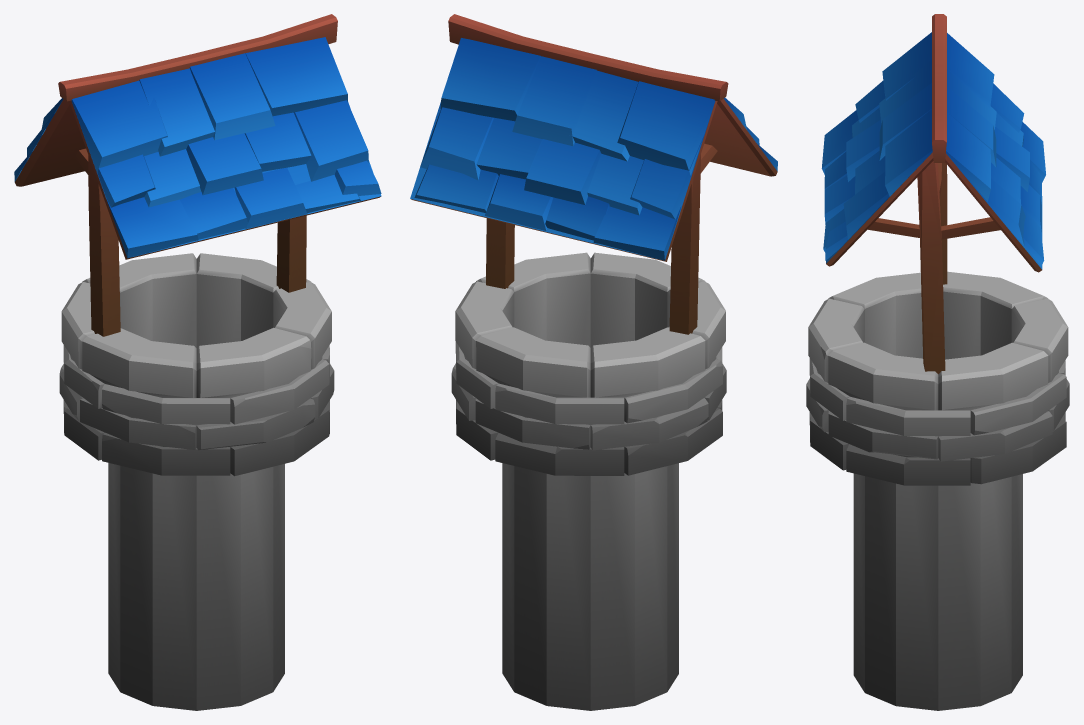
File: Well_RoofBlue.fbx
3 renders of one model, left to right at view 1: azimuth 30°, elevation 25°; view 2: azimuth 150°, elevation 25°; view 3: azimuth 270°, elevation 25°, orthographic. The views are drawn at different scales.
Visible parts, largest first — view 1: Well_RoofBlue; view 2: Well_RoofBlue; view 3: Well_RoofBlue.
Part boxes in pixels (box(x1,y1,x2,y2)): Well_RoofBlue: box(14, 14, 381, 710); Well_RoofBlue: box(410, 14, 777, 710); Well_RoofBlue: box(806, 14, 1069, 710).
Bounding box in the file's own units: 3.57 × 7.84 × 3.12.
